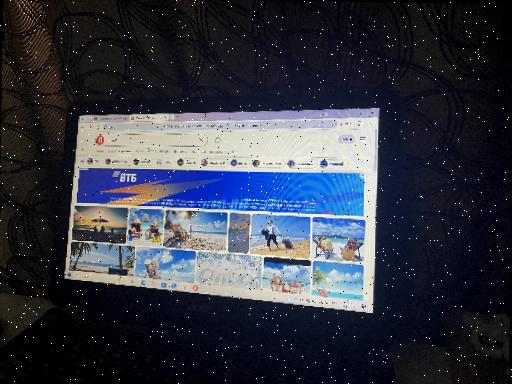yandex: (67, 126, 376, 302)
